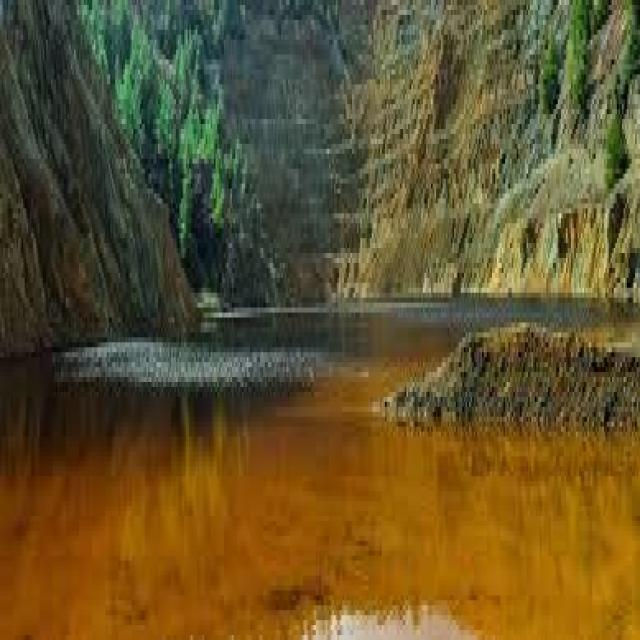yellow_boy: (8, 367, 638, 635)
